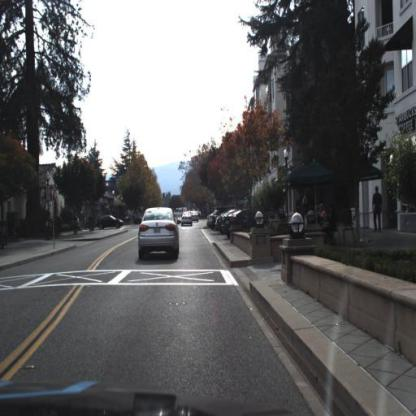car: (135, 203, 181, 265), (223, 210, 253, 239), (94, 213, 128, 234), (179, 205, 198, 228), (181, 211, 195, 229)
pedestrian: (373, 183, 385, 234), (308, 206, 316, 226), (79, 208, 85, 234)
